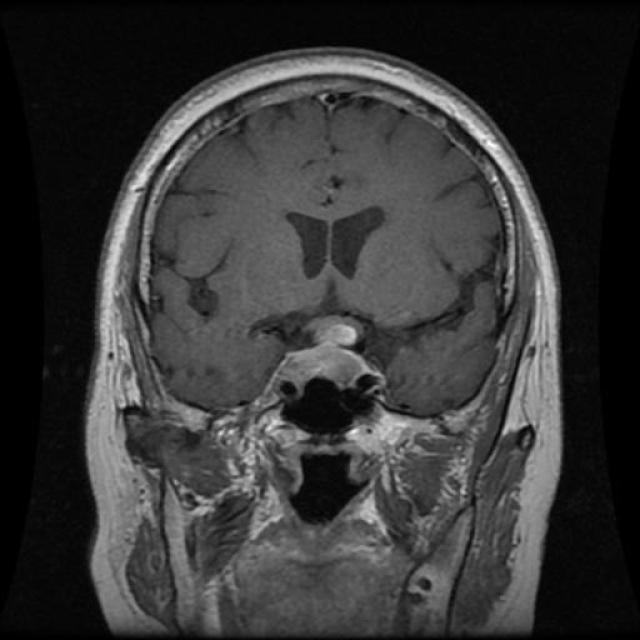brain_tumor: (266, 322, 384, 404)
